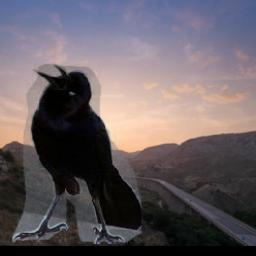Crow: (13, 64, 142, 244)
